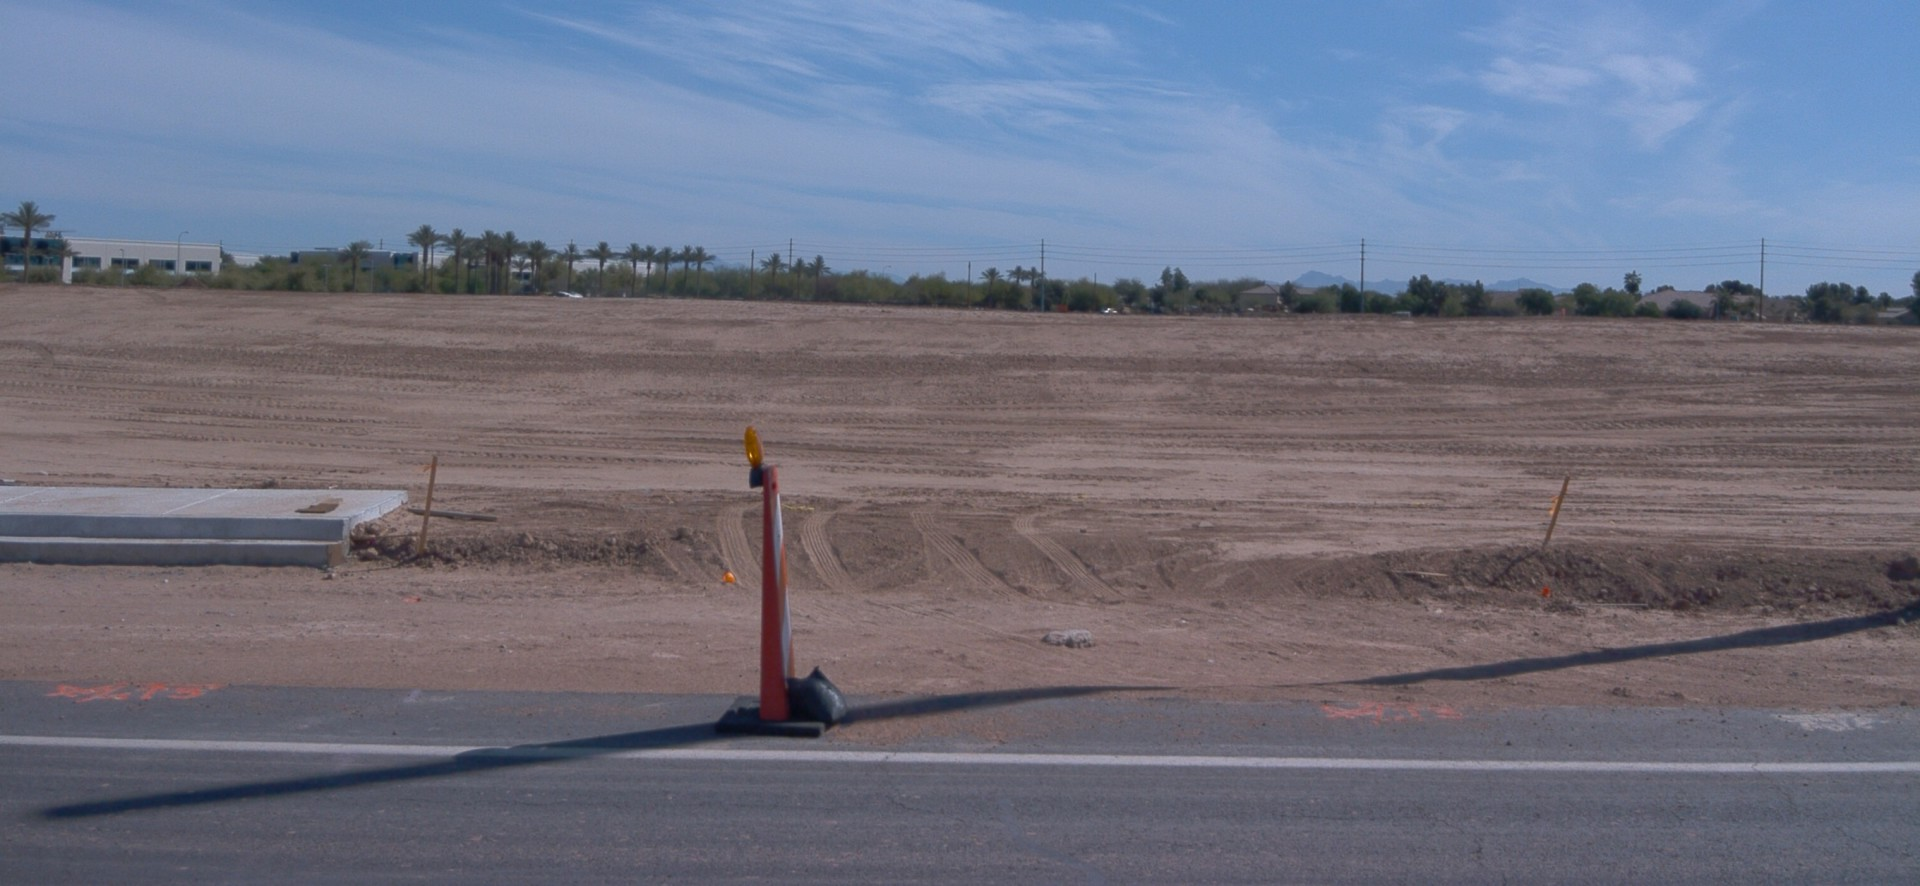TYPE_VEHICLE: (553, 290, 583, 301), (553, 290, 583, 301), (553, 290, 583, 301), (553, 290, 583, 301)
